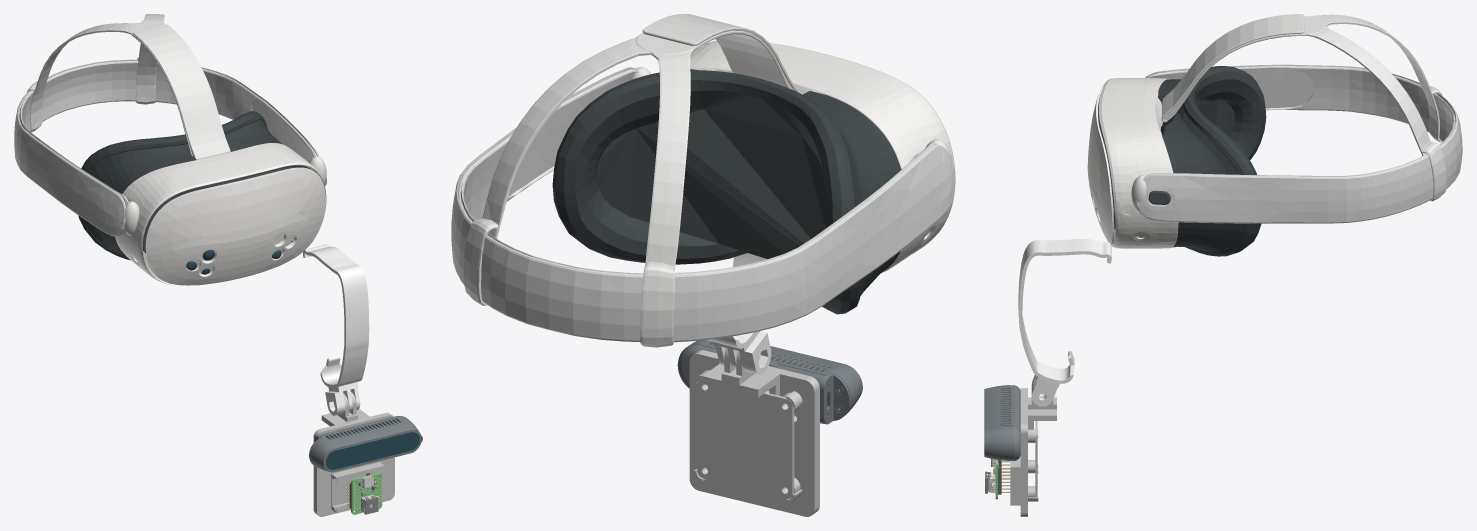
File: quest-3s-sensor-fusion-assembly.glb
3 renders of one model, left to right at view 1: azimuth 30°, elevation 25°; view 2: azimuth 150°, elevation 25°; view 3: azimuth 270°, elevation 25°, orthographic. The views are drawn at different scales.
Parts seen in each view (by area): view 1: quest-headset__front-detail__12-Object_34.obj, quest-headset__head-strap__quest-3s-strap-solidified.obj, quest-headset__rear-strap__17-Object_30.obj, quest-headset__main-shell__13-Object_10.obj, quest-headset__facial-interface__20-Object_8.obj, quest-mount__08_quest_mount, realsense__06_realsense_d435i, sensor-chassis__01_sensor_chassis, quest-headset__top-strap__15-Object_14.obj, pt3-retainer__03_pt3_slot_retainer, thermal-camera__Body1:18, quest-headset__front-trim__14-Object_12.obj (+1 smaller); view 2: quest-headset__facial-interface__20-Object_8.obj, quest-headset__head-strap__quest-3s-strap-solidified.obj, quest-headset__rear-strap__17-Object_30.obj, quest-headset__main-shell__13-Object_10.obj, orico-hub__05_orico_hub_pcb, sensor-chassis__01_sensor_chassis, realsense__06_realsense_d435i, quest-headset__top-strap__15-Object_14.obj, quest-mount__08_quest_mount, gopro-adapter__04_gopro_adapter; view 3: quest-headset__head-strap__quest-3s-strap-solidified.obj, quest-headset__facial-interface__20-Object_8.obj, quest-headset__main-shell__13-Object_10.obj, quest-headset__rear-strap__17-Object_30.obj, quest-mount__08_quest_mount, realsense__06_realsense_d435i, quest-headset__front-detail__12-Object_34.obj, quest-headset__left-strap-arm__15-Object_14.obj, sensor-chassis__01_sensor_chassis, gopro-adapter__04_gopro_adapter.
Boxes of the visible parts, x1,y1,x2,y2 form: quest-headset__front-detail__12-Object_34.obj: (145,167,325,285); quest-headset__head-strap__quest-3s-strap-solidified.obj: (14,59,326,236); quest-headset__rear-strap__17-Object_30.obj: (27,14,230,159); quest-headset__main-shell__13-Object_10.obj: (115,143,326,286); quest-headset__facial-interface__20-Object_8.obj: (78,111,282,260); quest-mount__08_quest_mount: (303,244,369,415); realsense__06_realsense_d435i: (309,416,422,472); sensor-chassis__01_sensor_chassis: (313,412,394,516); quest-headset__top-strap__15-Object_14.obj: (156,80,316,162); pt3-retainer__03_pt3_slot_retainer: (331,462,384,512); thermal-camera__Body1:18: (351,473,382,514); quest-headset__front-trim__14-Object_12.obj: (143,165,317,252); quest-headset__facial-interface__20-Object_8.obj: (552,69,901,314); quest-headset__head-strap__quest-3s-strap-solidified.obj: (451,67,955,342); quest-headset__rear-strap__17-Object_30.obj: (463,14,801,347); quest-headset__main-shell__13-Object_10.obj: (659,40,955,272); orico-hub__05_orico_hub_pcb: (697,378,794,498); sensor-chassis__01_sensor_chassis: (689,350,819,516); realsense__06_realsense_d435i: (677,340,862,424); quest-headset__top-strap__15-Object_14.obj: (458,70,635,222); quest-mount__08_quest_mount: (707,253,771,374); gopro-adapter__04_gopro_adapter: (702,348,779,397); quest-headset__head-strap__quest-3s-strap-solidified.obj: (1135,64,1462,223); quest-headset__facial-interface__20-Object_8.obj: (1158,66,1266,256); quest-headset__main-shell__13-Object_10.obj: (1099,78,1178,248); quest-headset__rear-strap__17-Object_30.obj: (1161,14,1446,201); quest-mount__08_quest_mount: (1018,239,1111,406); realsense__06_realsense_d435i: (984,385,1020,461); quest-headset__front-detail__12-Object_34.obj: (1087,83,1114,244); quest-headset__left-strap-arm__15-Object_14.obj: (1147,67,1437,108); sensor-chassis__01_sensor_chassis: (1020,388,1038,516); gopro-adapter__04_gopro_adapter: (1028,383,1056,429).
Size of the model in its own units: 0.2048 by 0.331 by 0.3289.
